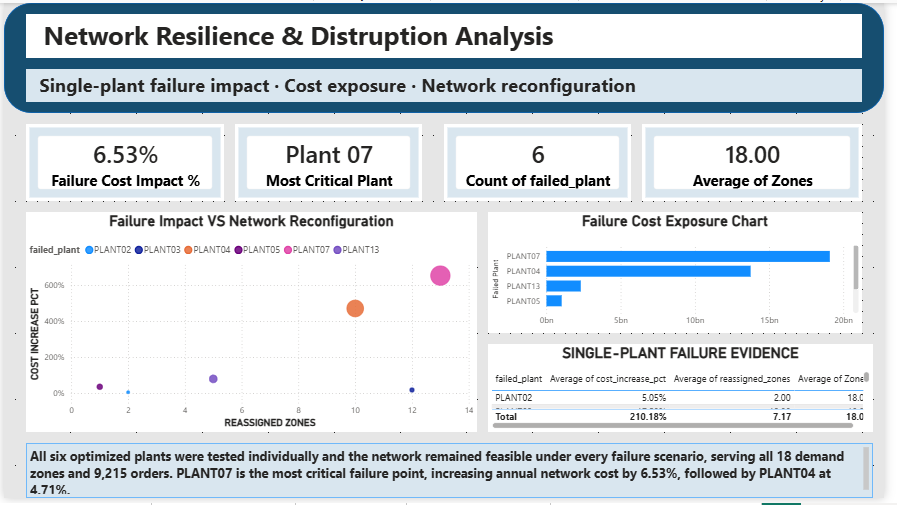

The dashboard page shown, as its layout file describes it:
{"tool":"powerbi","page":{"name":"Network Resilience","canvas":[1280,720],"ordinal":3},"visuals":[{"type":"scatterChart","title":"Failure Impact VS Network Reconfiguration","fields":{"X":["Sum(model_a_resilience_analysis.reassigned_zones)"],"Y":["Avg(model_a_resilience_analysis.cost_increase_pct)"],"Series":["model_a_resilience_analysis.failed_plant"],"Size":["Sum(model_a_resilience_analysis.cost_increase)"]},"box":[32,304,656,320],"z":0},{"type":"clusteredBarChart","title":"Failure Cost Exposure Chart","fields":{"Category":["model_a_resilience_analysis.failed_plant"],"Y":["Sum(model_a_resilience_analysis.cost_increase)"]},"box":[704,304,544,176],"z":1000},{"type":"shape","box":[0,0,1280,160],"z":2000},{"type":"textbox","box":[32,16,1216,64],"z":3000},{"type":"textbox","box":[32,96,1216,48],"z":4000},{"type":"cardVisual","fields":{"Data":["CountNonNull(model_a_resilience_analysis.failed_plant)"]},"box":[640,176,272,112],"z":5000},{"type":"cardVisual","fields":{"Data":["model_a_resilience_analysis.Failure Cost Impact %"]},"box":[32,176,288,112],"z":6000},{"type":"cardVisual","fields":{"Data":["Table.Most Critical Plant"]},"box":[336,176,272,112],"z":7000},{"type":"cardVisual","fields":{"Data":["Avg(network_optimization_kpis.Zones)"]},"box":[928,176,320,112],"z":8000},{"type":"tableEx","title":"SINGLE-PLANT FAILURE EVIDENCE","fields":{"Values":["model_a_resilience_analysis.failed_plant","Avg(model_a_resilience_analysis.cost_increase_pct)","Avg(model_a_resilience_analysis.reassigned_zones)","Avg(network_optimization_kpis.Zones)"]},"box":[704,496,560,128],"z":9000},{"type":"textbox","box":[32,640,1232,80],"z":10000}]}

Visuals, with their boxes in screenshot pixels (x1, y1, x2, y2), scaled from the page's 1280x720 canvas onto the 897x505 screenshot:
"Failure Impact VS Network Reconfiguration" scatterChart: detection(22, 213, 482, 438)
"Failure Cost Exposure Chart" clusteredBarChart: detection(493, 213, 875, 337)
shape: detection(0, 0, 896, 112)
textbox: detection(22, 11, 875, 56)
textbox: detection(22, 67, 875, 101)
cardVisual - CountNonNull(model_a_resilience_analysis.failed_plant): detection(448, 123, 639, 202)
cardVisual - model_a_resilience_analysis.Failure Cost Impact %: detection(22, 123, 224, 202)
cardVisual - Table.Most Critical Plant: detection(235, 123, 426, 202)
cardVisual - Avg(network_optimization_kpis.Zones): detection(650, 123, 875, 202)
"SINGLE-PLANT FAILURE EVIDENCE" tableEx: detection(493, 348, 886, 438)
textbox: detection(22, 449, 886, 504)
